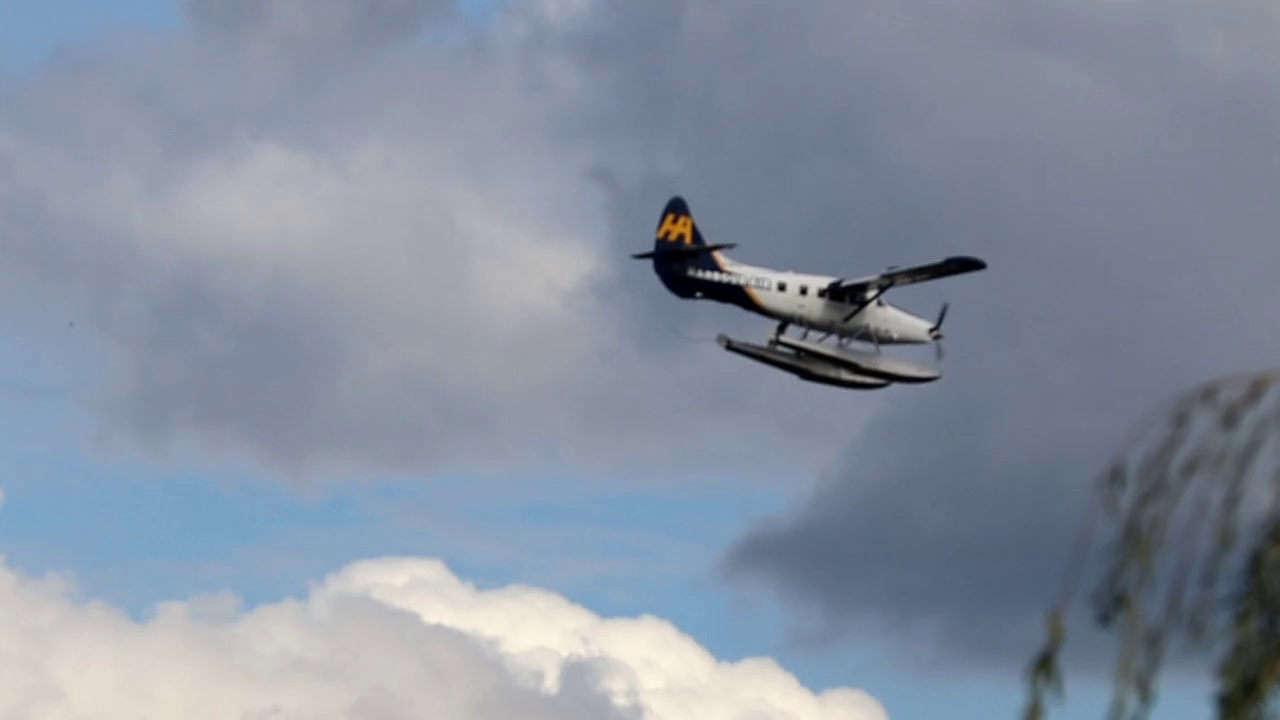plane: (628, 195, 990, 389)
